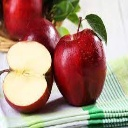apple: (3, 41, 53, 115)
